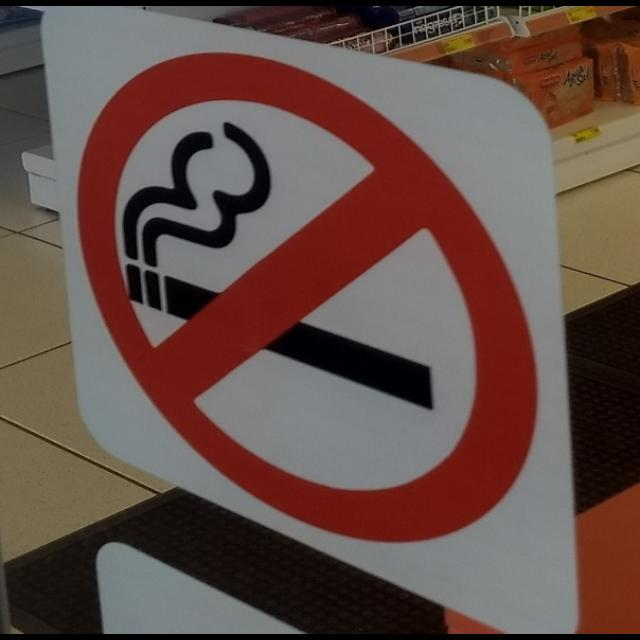cam hut thuoc: (76, 53, 537, 543)
